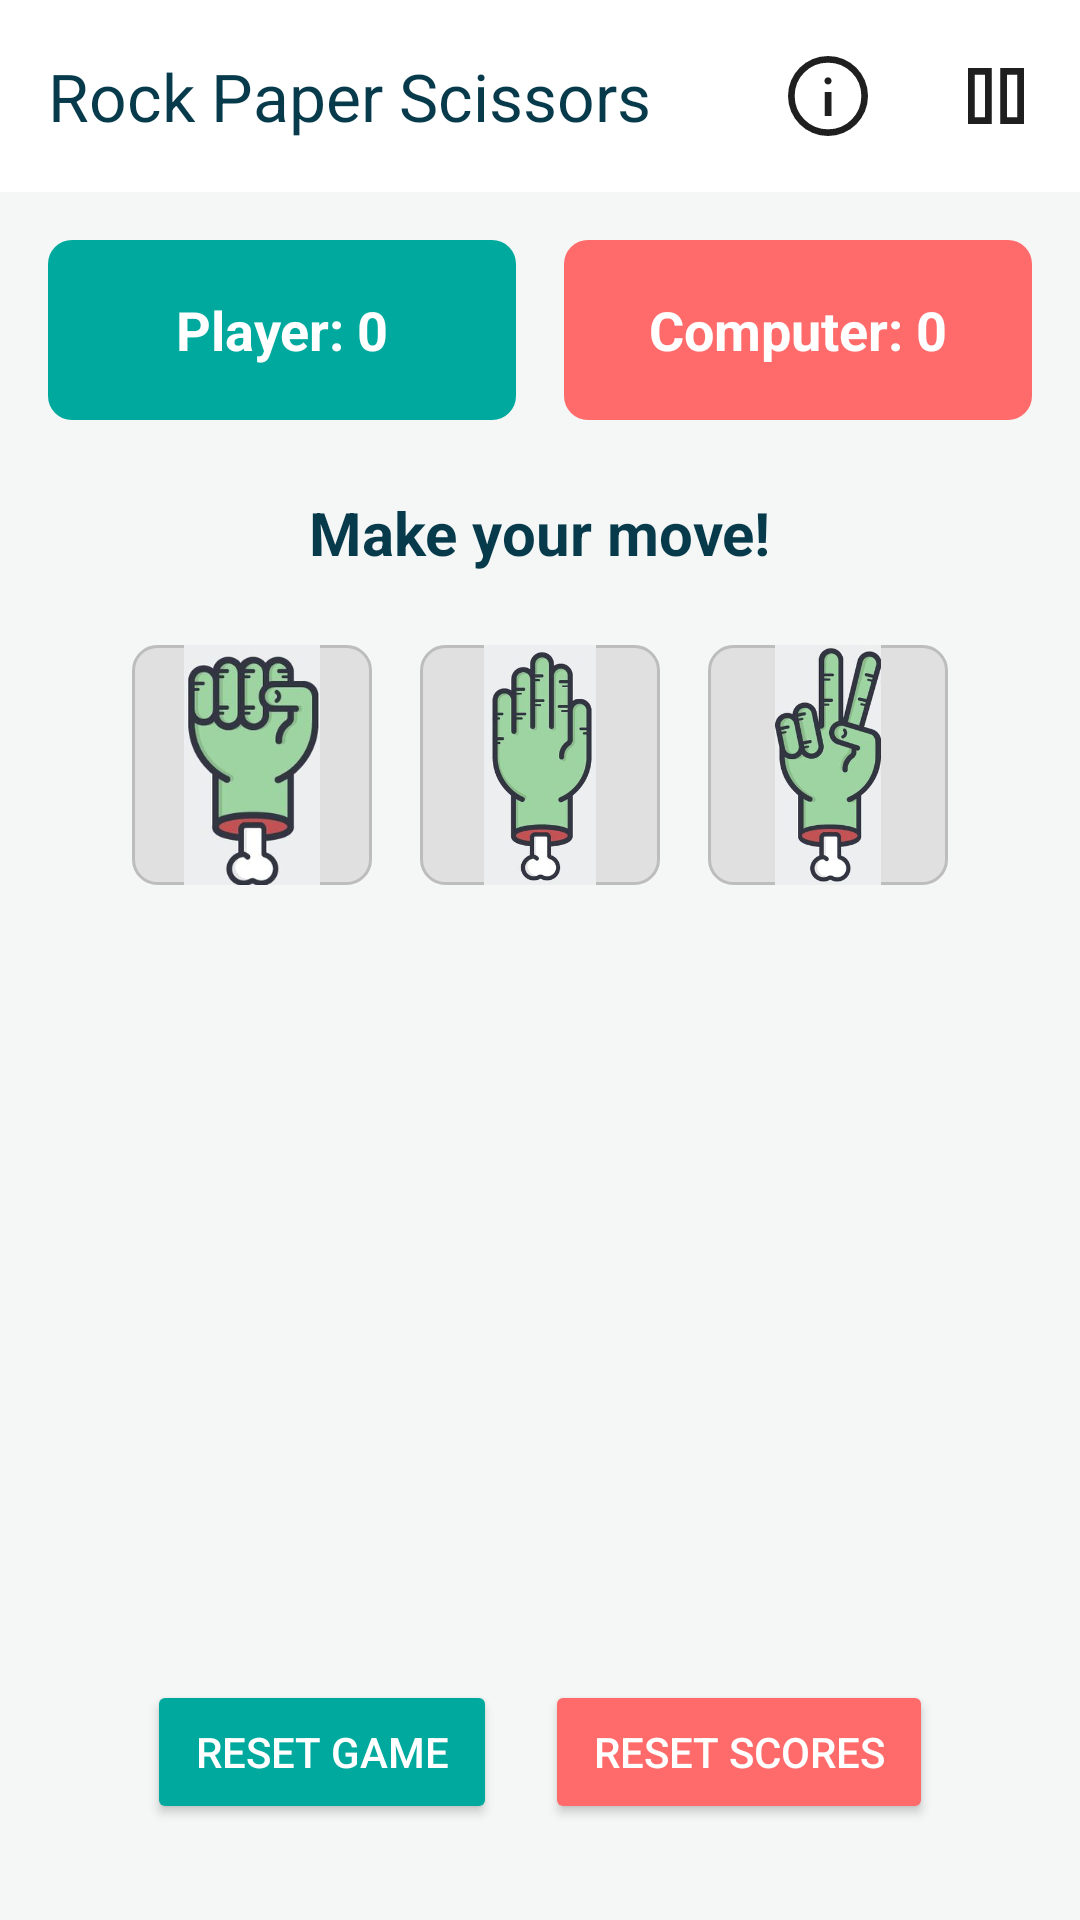

Locate icon controls on the screen. Image size 1080 × 1920, boxes as (x1, y1, x2, y2).
Paper: (420, 645, 660, 885)
Rock: (132, 645, 372, 885)
Scissors: (708, 645, 948, 885)
